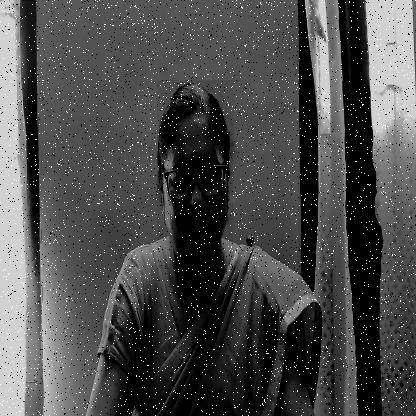Normal: (158, 80, 233, 269)
